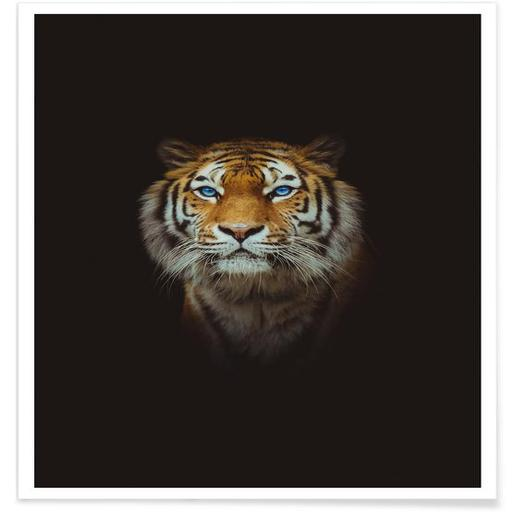Tiger: (126, 119, 379, 392)
